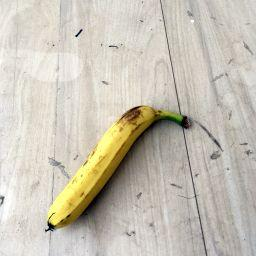Banana Ripe: (49, 101, 191, 231)
